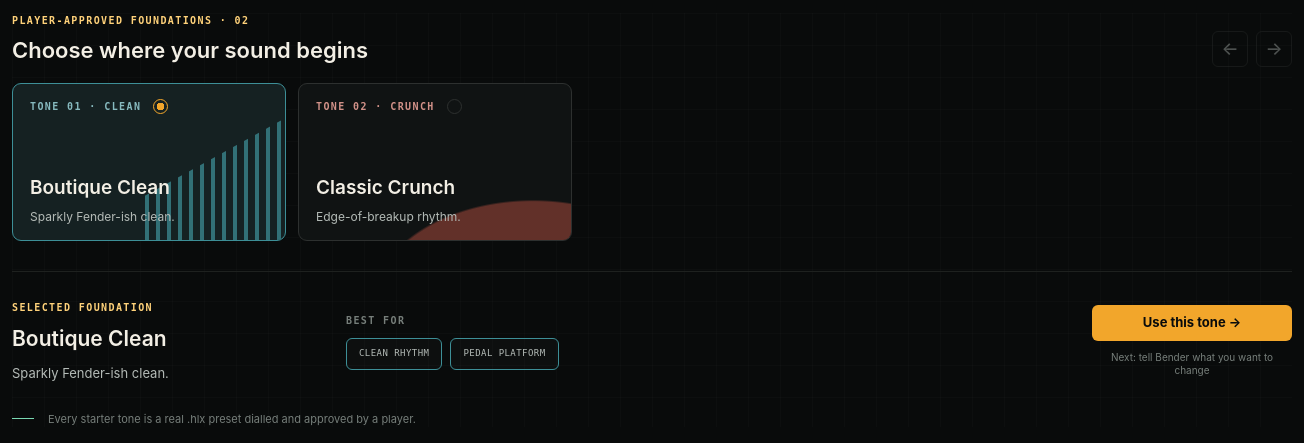
StarterTones › moves the preview when another foundation is selected
Click the button "Tone 02 · Crunch Classic Crunch Edge-of-breakup rhythm.": (435, 162) [298,83,572,241]
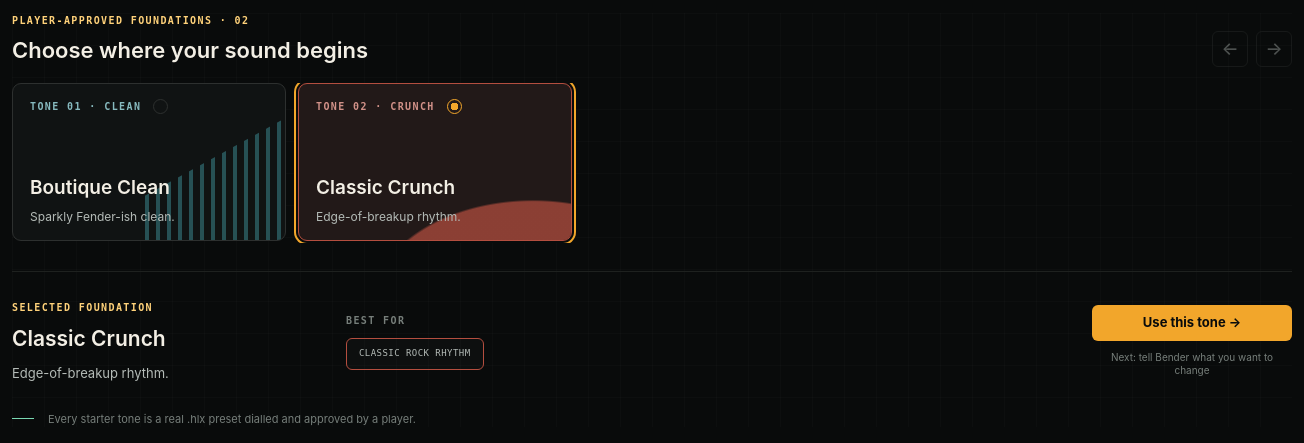
Expected: the heading "Classic Crunch" is shown, [12,326,166,351]
